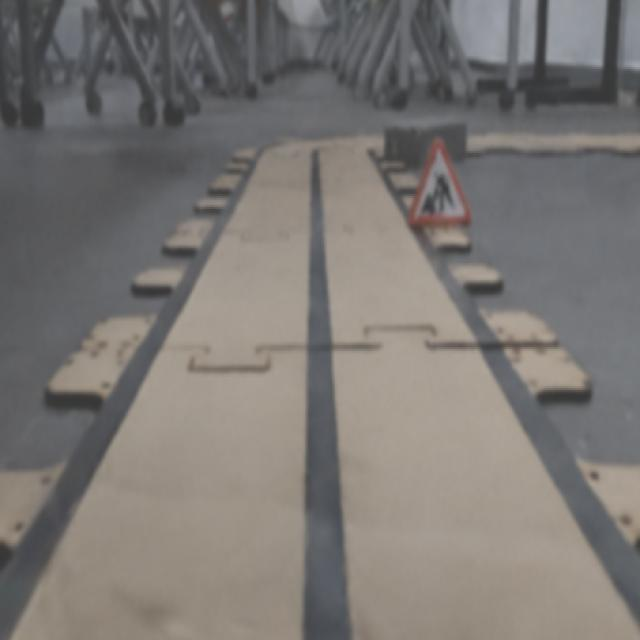WORKERS: (409, 138, 470, 226)
